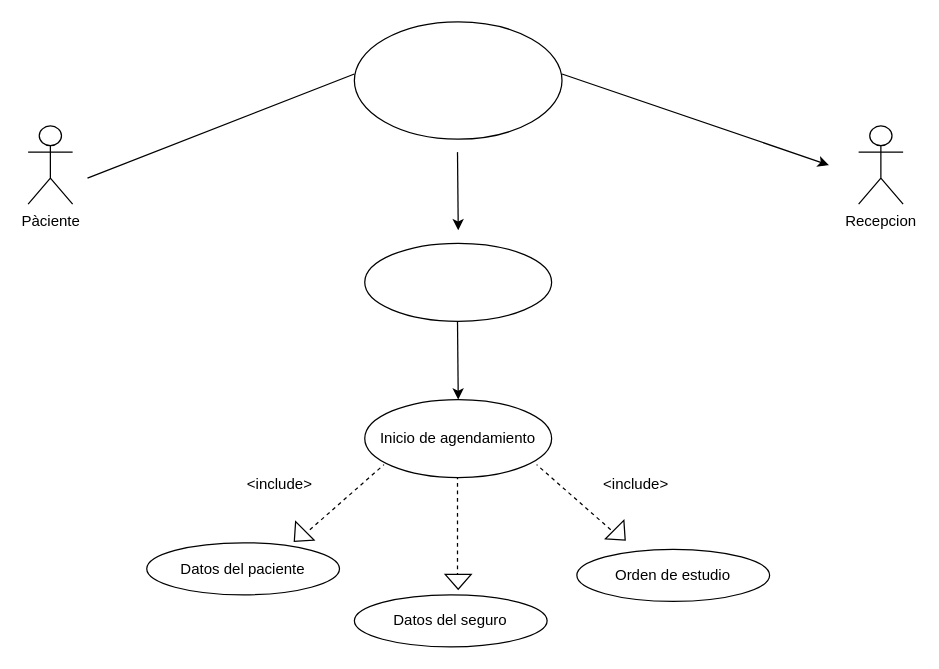
Some shapes in this 939 by 669 pixel diagram are drawn without their labels. Here are the shapes that lost their labels. From the top down, the centre of each, then its label:
At (457,80): "Solicitud de agendamiento".
At (458,281): "Acceder al calendario".
